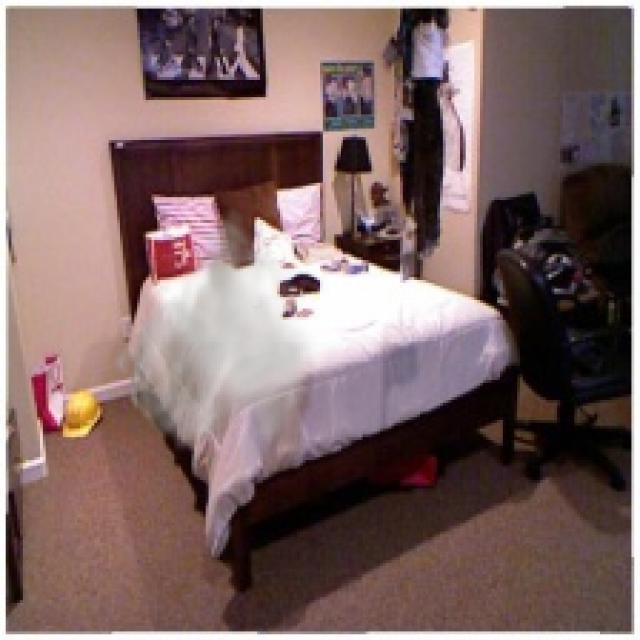Smoke: (111, 200, 320, 474)
